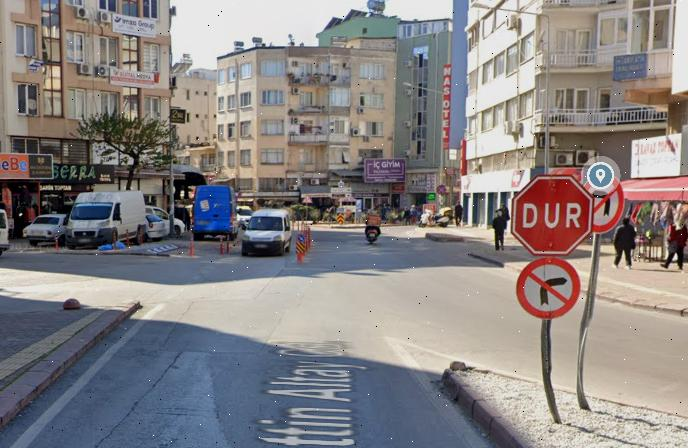leftturnsareforbidden: (589, 175, 624, 233)
rightturnsareforbidden: (517, 252, 579, 318)
stop: (512, 177, 591, 256)
